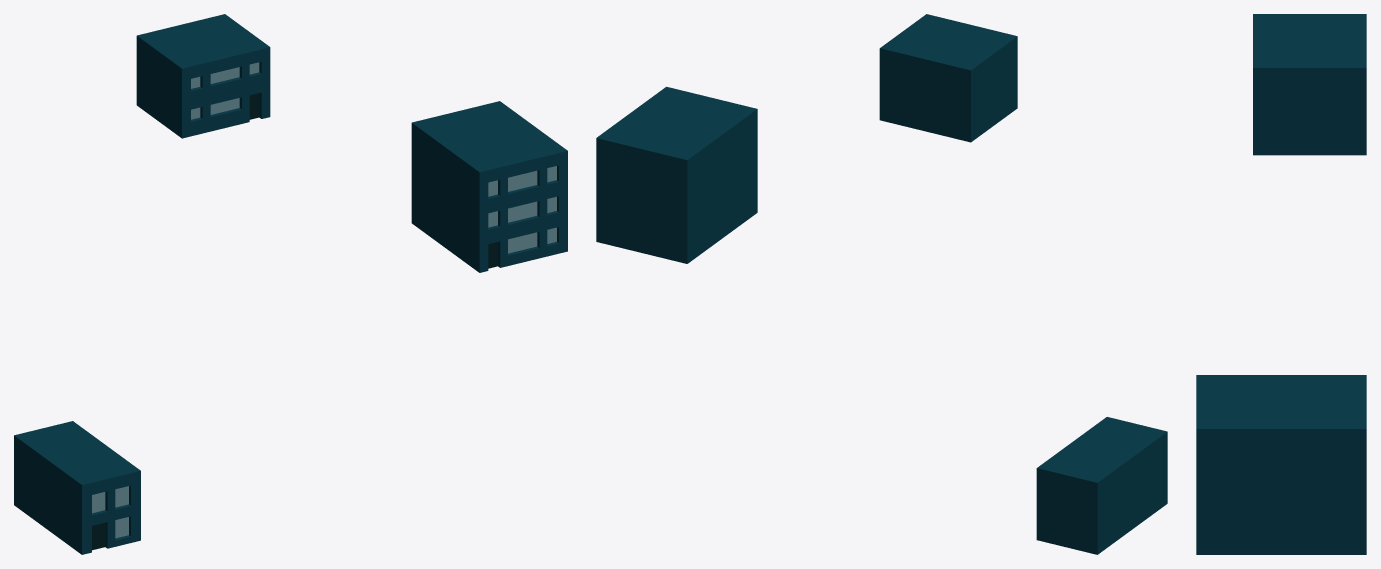
Rendered from BinaGrup12.gltf.
3 renders of one model, left to right at view 1: azimuth 30°, elevation 25°; view 2: azimuth 150°, elevation 25°; view 3: azimuth 270°, elevation 25°, orthographic. The views are drawn at different scales.
Visible parts, largest first — view 1: Building_065.011, Building_050.011, Building_045.011, Building_065.012, Building_050.012, Building_045.012; view 2: Building_065.011, Building_050.011, Building_045.011; view 3: Building_065.011, Building_050.011.
Boxes of the visible parts, left/top/right/bottom form: Building_065.011: left=411, top=101, right=567, bottom=272; Building_050.011: left=136, top=14, right=270, bottom=138; Building_045.011: left=14, top=421, right=140, bottom=554; Building_065.012: left=488, top=166, right=556, bottom=253; Building_050.012: left=191, top=62, right=259, bottom=119; Building_045.012: left=92, top=486, right=128, bottom=538; Building_065.011: left=596, top=86, right=757, bottom=263; Building_050.011: left=879, top=14, right=1017, bottom=142; Building_045.011: left=1036, top=417, right=1167, bottom=554; Building_065.011: left=1196, top=375, right=1366, bottom=554; Building_050.011: left=1253, top=14, right=1366, bottom=155.
Size of the model in its own units: 0.269 by 0.2326 by 0.0652.
